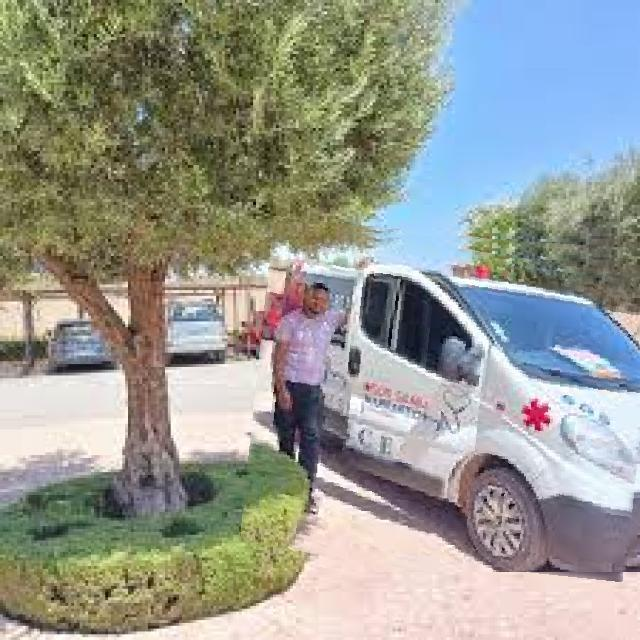ambulance: (247, 225, 640, 572)
